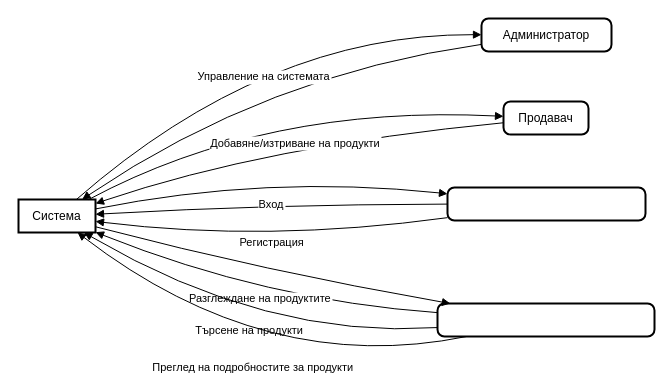
This 672x391 diagram has some shape labels left out. The shapes that lost their labels are listed below. From the top down, each one's centre as x and y in pixels, then its label:
point (546, 203): Регистриран потребител
point (545, 319): Нерегистриран потребител
